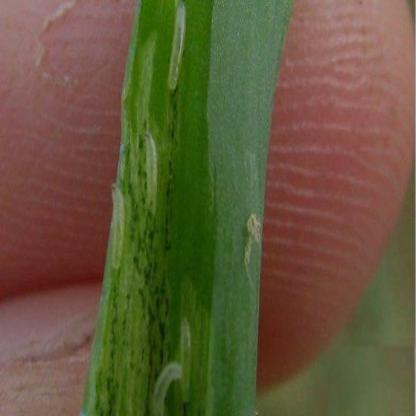whorl-maggot: (164, 2, 190, 91), (178, 314, 200, 408), (146, 360, 182, 416), (106, 176, 127, 270), (141, 128, 162, 216)
